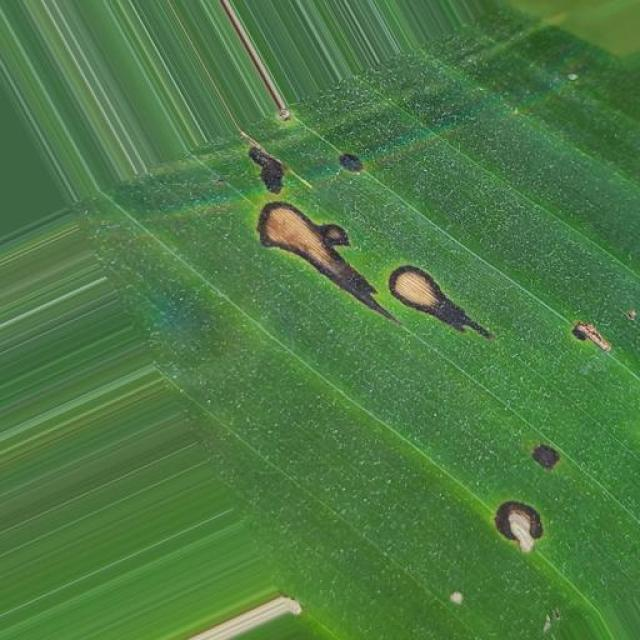Early_rust: (223, 126, 493, 365), (470, 423, 580, 556), (540, 313, 631, 379)
